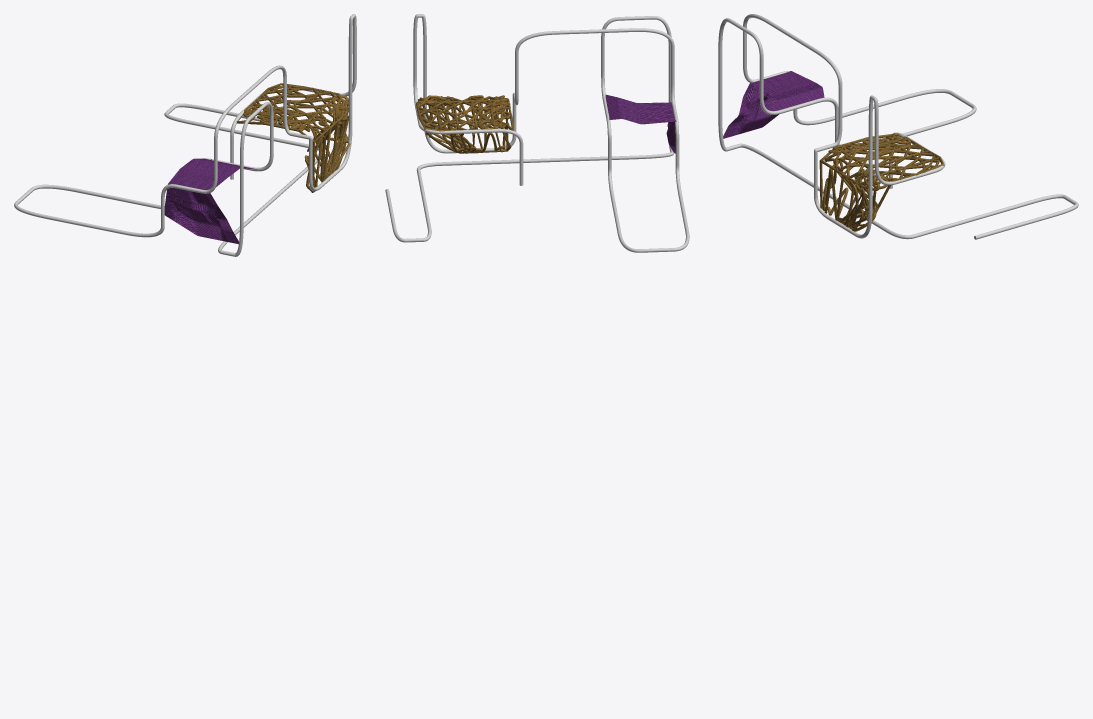
File: baumhaus-01.glb
3 views of the same model, side by side, from view 1: azimuth 30°, elevation 25°; view 2: azimuth 150°, elevation 25°; view 3: azimuth 270°, elevation 25° (orthographic). The views are drawn at different scales.
Parts seen in each view (by area): view 1: NurbsPath, Plane.008, Plane.007; view 2: NurbsPath, Plane.008, Plane.007; view 3: NurbsPath, Plane.008, Plane.007.
Part boxes in pixels (<box>): NurbsPath: <box>14,14,356,256</box>; Plane.008: <box>236,83,350,192</box>; Plane.007: <box>164,158,259,244</box>; NurbsPath: <box>385,14,689,252</box>; Plane.008: <box>416,95,513,153</box>; Plane.007: <box>605,94,676,153</box>; NurbsPath: <box>718,14,1078,239</box>; Plane.008: <box>819,133,944,231</box>; Plane.007: <box>723,71,824,138</box>.
Bounding box in the file's own units: 1.9 × 3.85 × 1.83.
4 materials, 2 textured.
